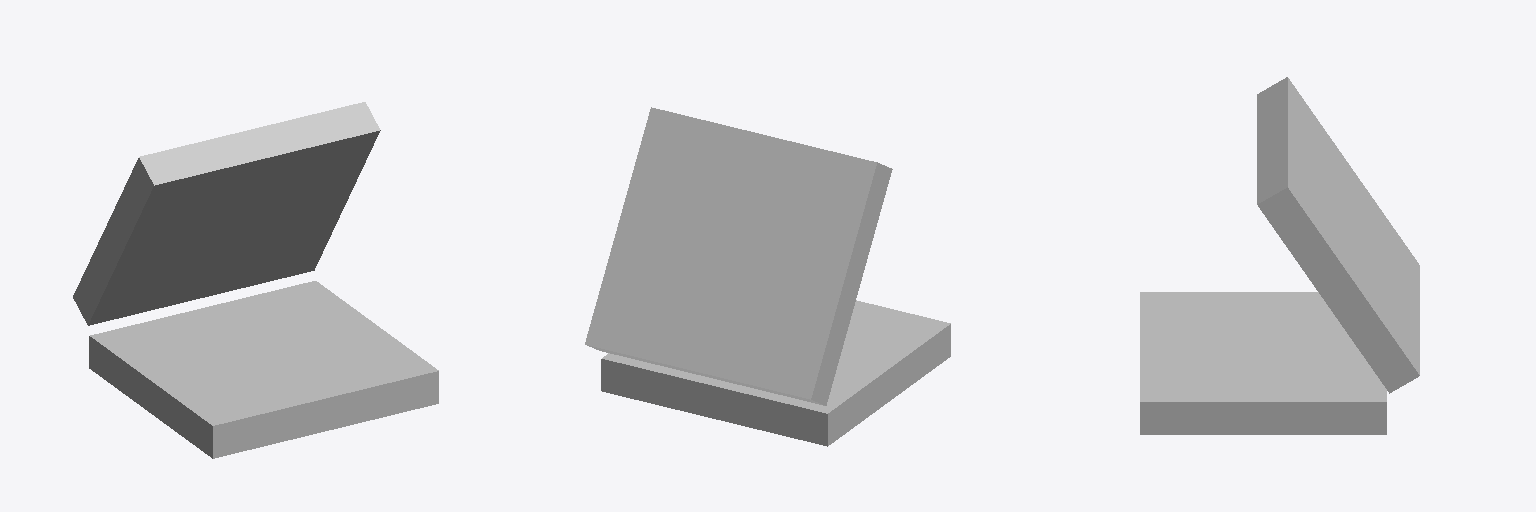
The model's file is ceiling.obj.
3 renders of one model, left to right at view 1: azimuth 30°, elevation 25°; view 2: azimuth 150°, elevation 25°; view 3: azimuth 270°, elevation 25°, orthographic.
Visible parts, largest first — view 1: Cube.001, Cube; view 2: Cube.001, Cube; view 3: Cube, Cube.001.
Boxes of the visible parts, <box> form: Cube.001: <box>73,102,380,325</box>; Cube: <box>89,281,438,458</box>; Cube.001: <box>585,107,892,405</box>; Cube: <box>601,300,950,446</box>; Cube: <box>1140,292,1386,434</box>; Cube.001: <box>1257,77,1419,393</box>.
Size of the model in its own units: 14.43 by 15.1 by 15.48.